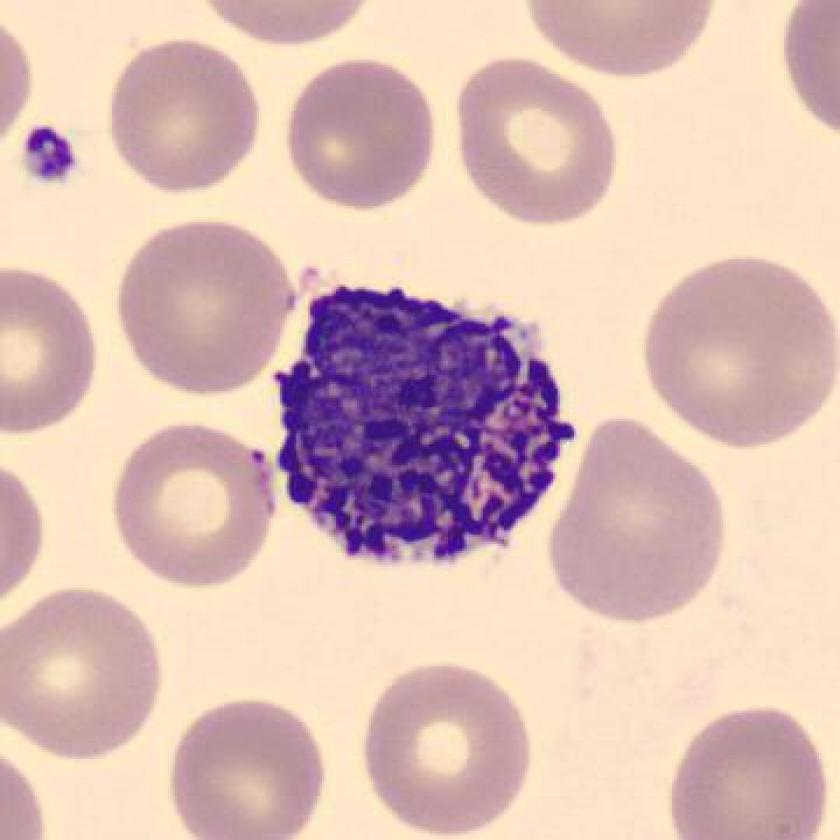basophil: (260, 279, 575, 582)
